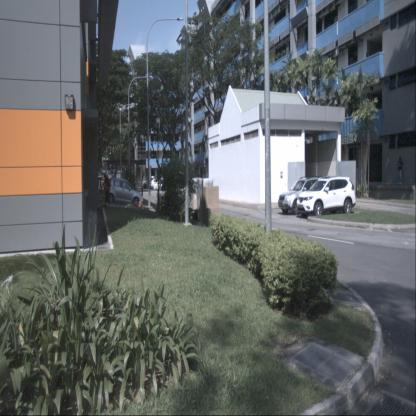human-pedestrian-adult: (101, 173, 111, 207), (398, 156, 404, 184)
vehicle-car: (296, 176, 356, 218), (278, 178, 332, 215), (106, 178, 144, 207), (151, 180, 167, 191), (150, 178, 164, 189), (143, 179, 155, 189)
